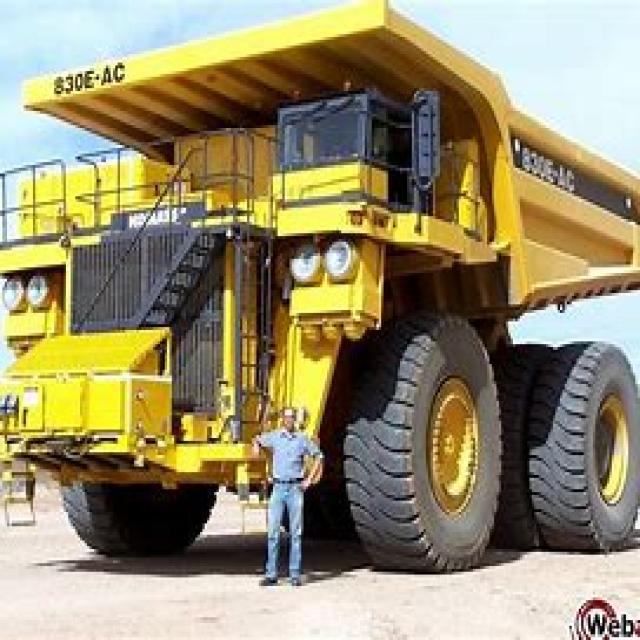dump_truck: (0, 0, 638, 569)
